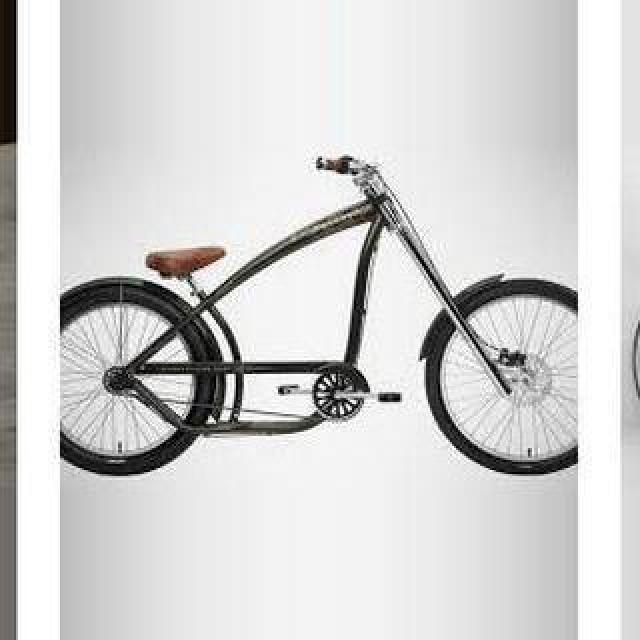Person: (60, 153, 578, 477)
